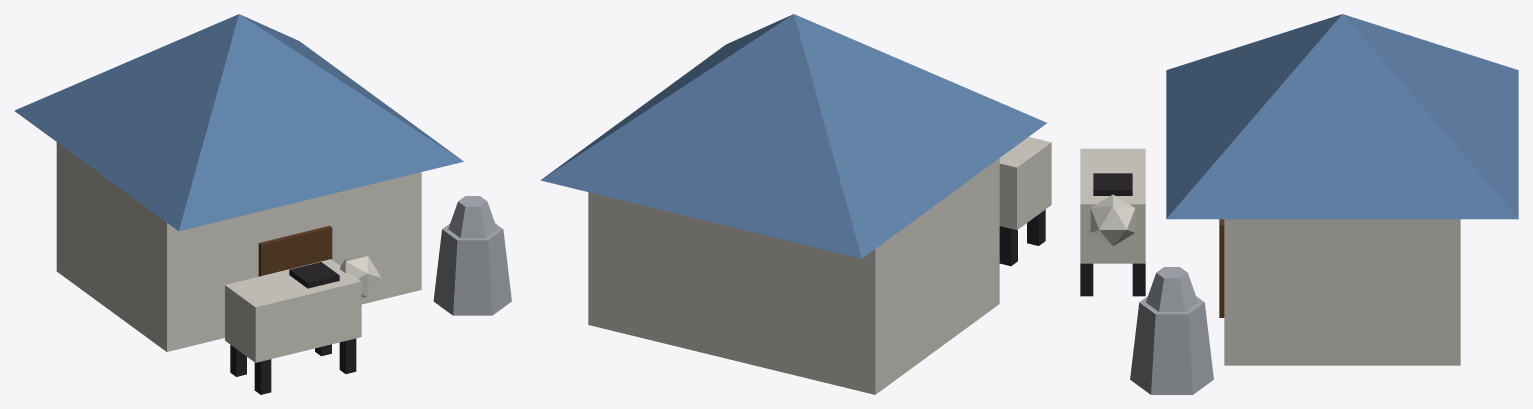
The model's file is dairy.glb.
3 views of the same model, side by side, from view 1: azimuth 30°, elevation 25°; view 2: azimuth 150°, elevation 25°; view 3: azimuth 270°, elevation 25° (orthographic). The views are drawn at different scales.
Visible parts, largest first — view 1: dairy; view 2: dairy; view 3: dairy.
Part boxes in pixels (x1,y1,x2,y2): dairy: (14,14,511,394); dairy: (540,14,1051,394); dairy: (1080,14,1518,394).
Bounding box in the file's own units: 0.3071 × 0.24 × 0.3344.
